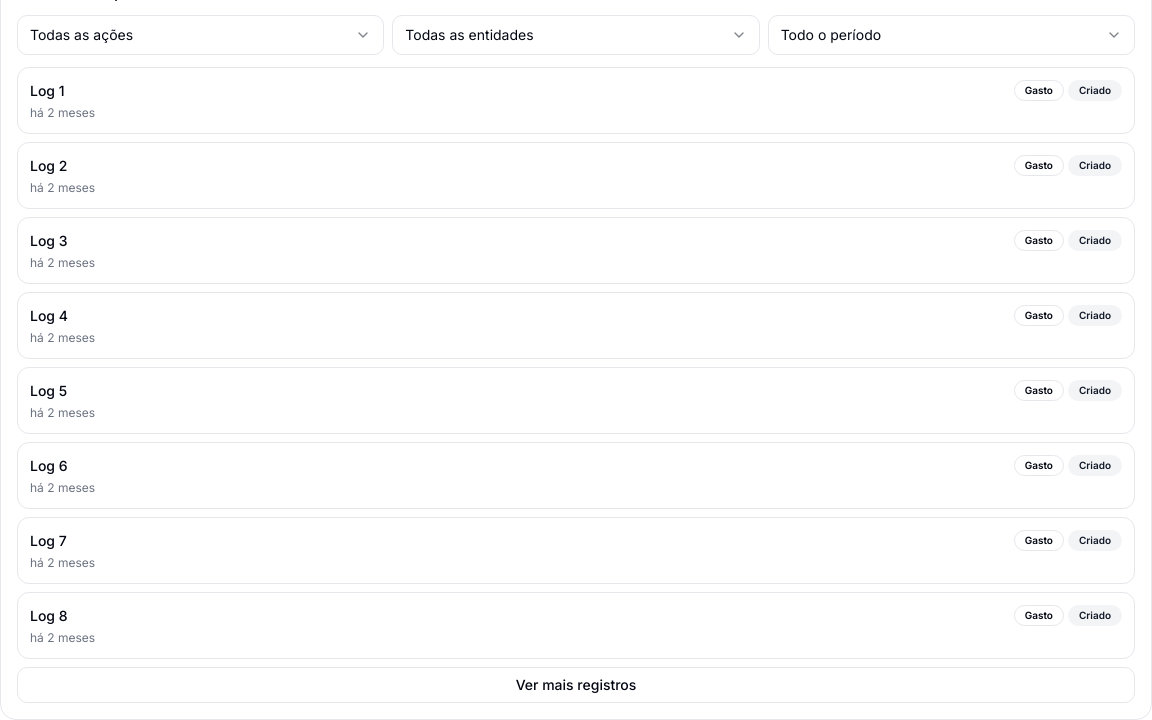
OperationalTimelineSection integração › paginaa histórico e exibe mais registros sob demanda
(page scrolled)
Check: the text "Log 1" is shown, box [30,80,65,100]
Check: the text "Log 8" is shown, box [30,606,68,626]
Step 1. Click the button "Ver mais registros" → (576, 685), box [17,667,1135,703]
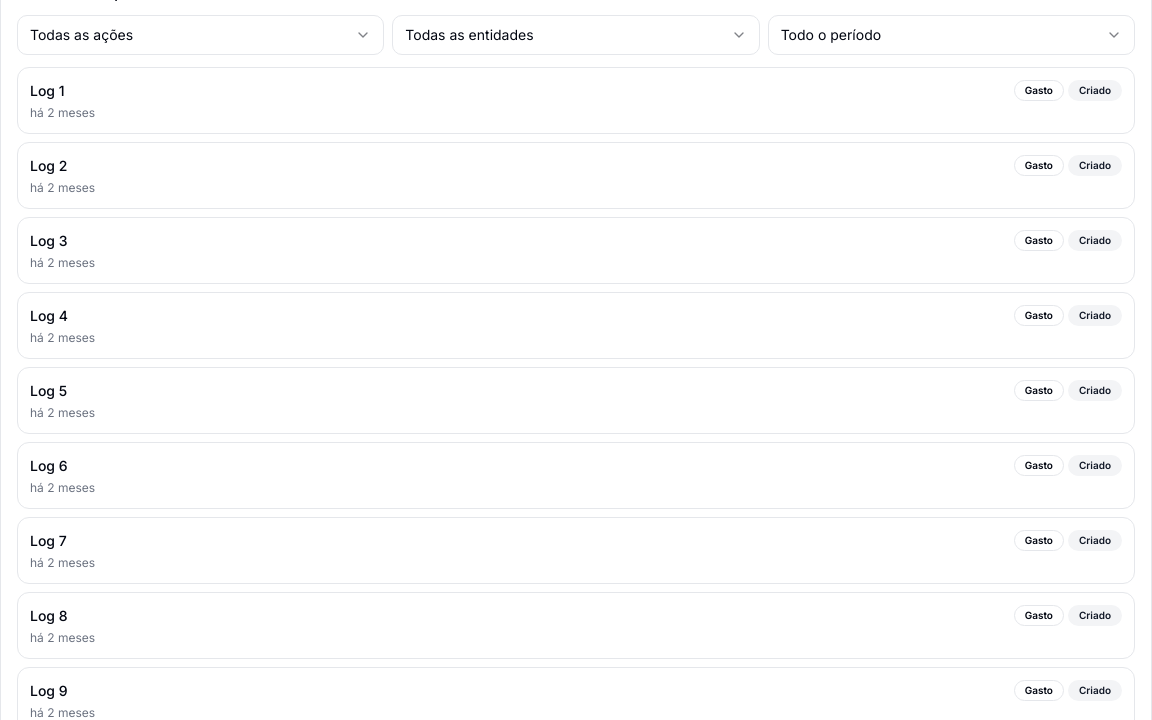
Check: the text "Log 9" is shown, box [30,680,68,700]
